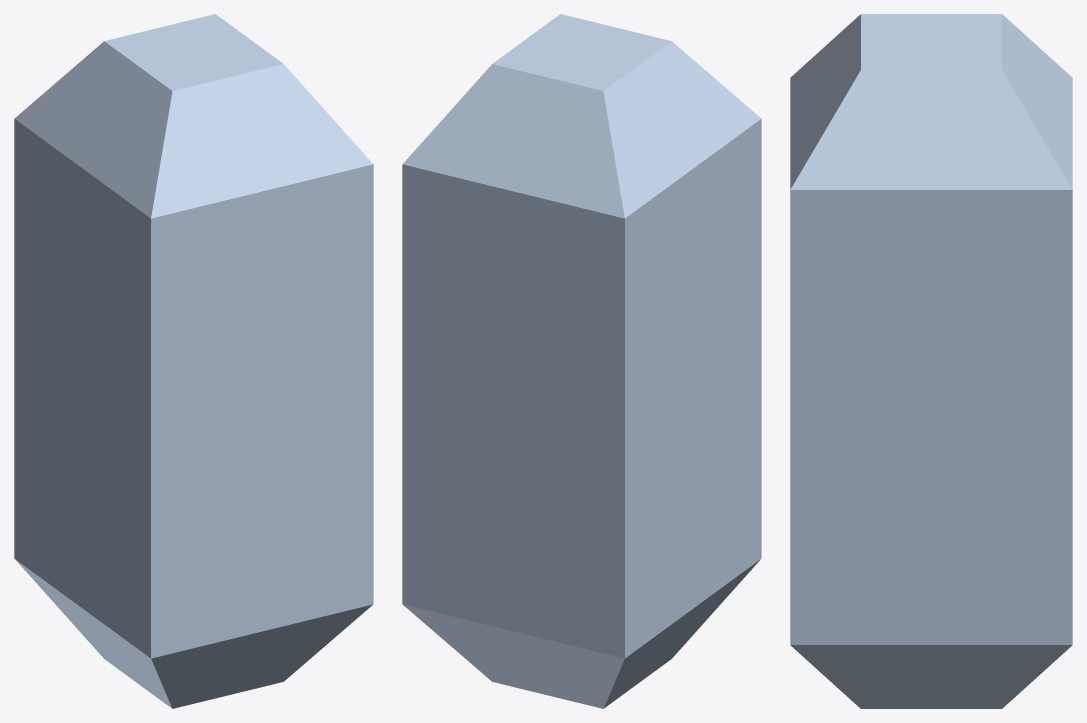
Rendered from GuardUpperArm.fbx.
3 views of the same model, side by side, from view 1: azimuth 30°, elevation 25°; view 2: azimuth 150°, elevation 25°; view 3: azimuth 270°, elevation 25° (orthographic). The views are drawn at different scales.
Visible parts, largest first — view 1: GuardUpperArm; view 2: GuardUpperArm; view 3: GuardUpperArm.
Part boxes in pixels (x1=…): GuardUpperArm: x1=14, y1=14, x2=373, y2=708; GuardUpperArm: x1=402, y1=14, x2=761, y2=708; GuardUpperArm: x1=790, y1=14, x2=1072, y2=708.
Bounding box in the file's own units: 0.1568 × 0.4161 × 0.1668.
